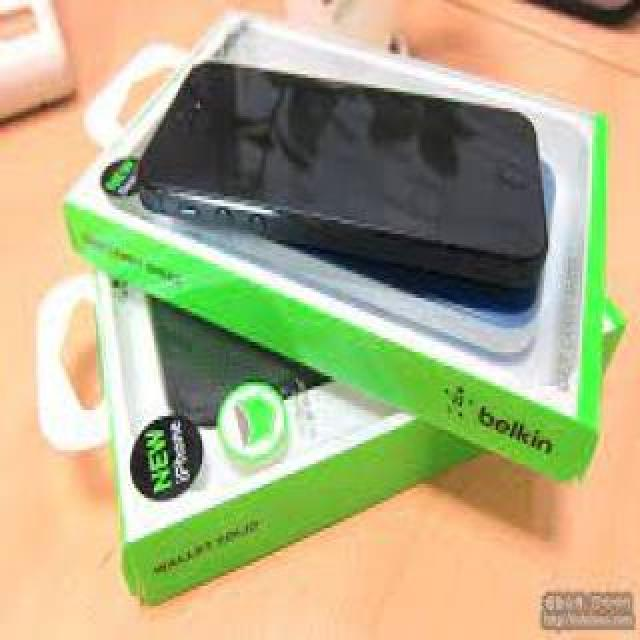smart phone: (132, 50, 556, 287)
